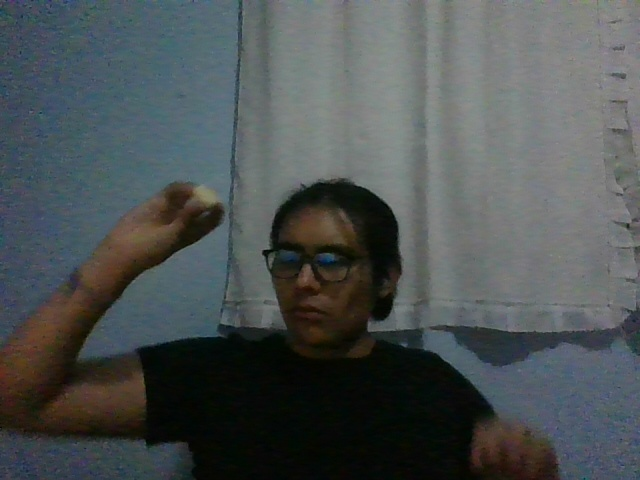goma: (193, 185, 217, 208)
